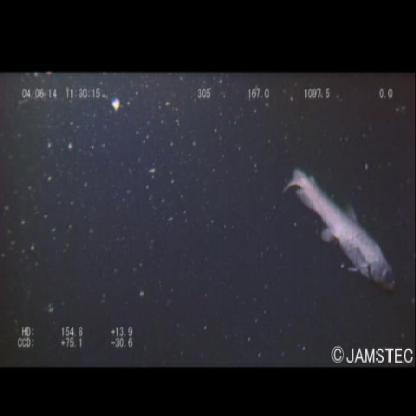Bio: (281, 164, 398, 302)
